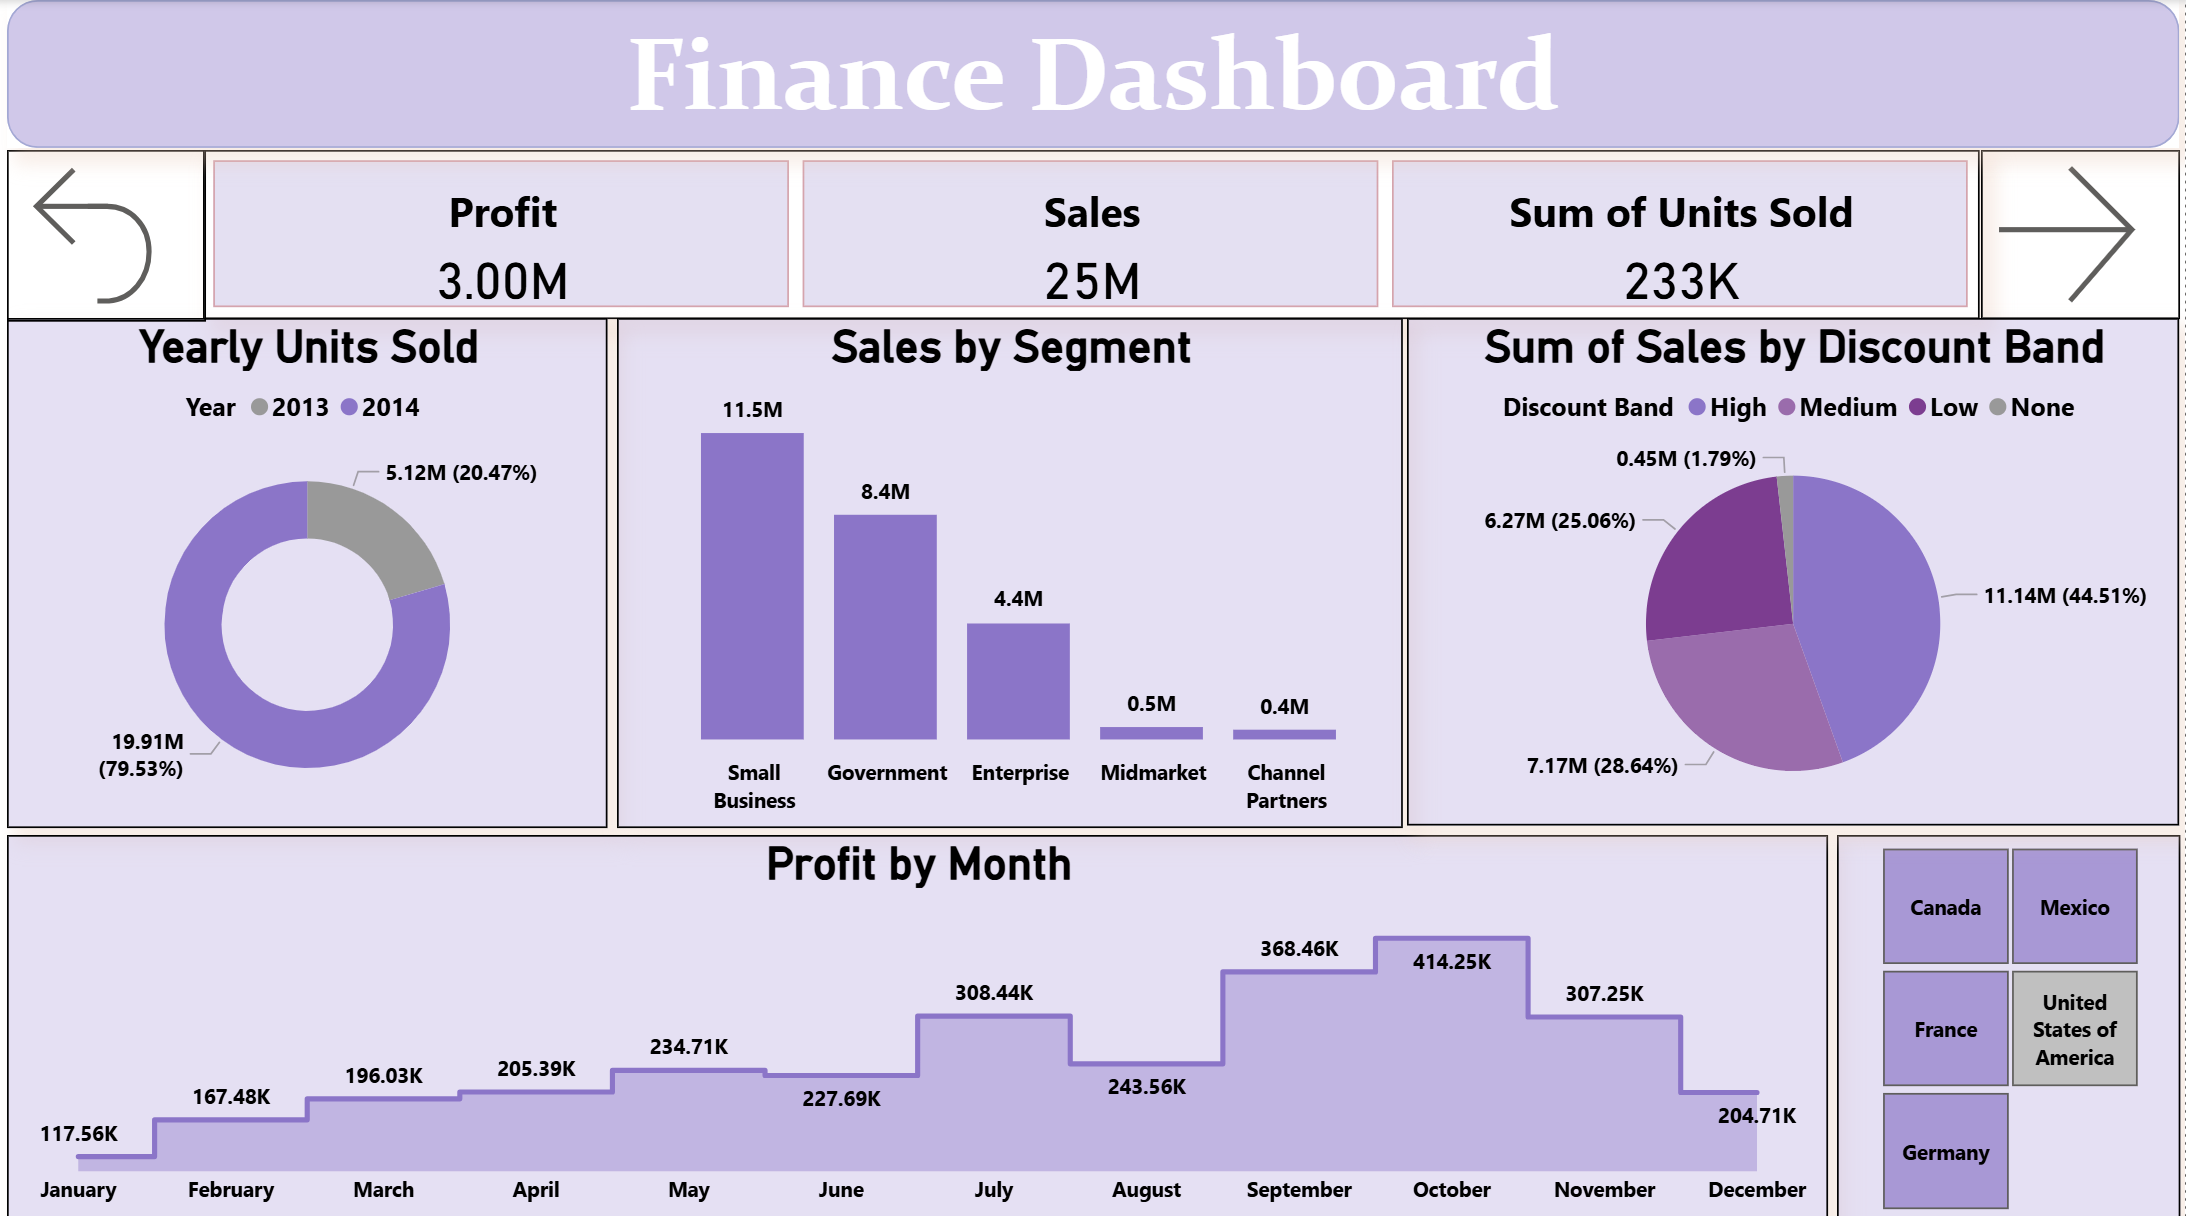

The page's visual inventory and layout, read from the dashboard file:
{"tool":"powerbi","page":{"name":"Dashboard","canvas":[1280,720],"ordinal":10},"visuals":[{"type":"cardVisual","fields":{"Data":["Sum(financials.Profit)","Sum(financials. Sales)","Sum(financials.Units Sold)"]},"box":[119.9,87.5,1040.2,98.8],"z":0},{"type":"donutChart","title":"Yearly Units Sold","fields":{"Y":["Sum(financials. Sales)"],"Category":["financials.Date.Variation.Date Hierarchy.Year","financials.Date.Variation.Date Hierarchy.Quarter","financials.Date.Variation.Date Hierarchy.Month","financials.Date.Variation.Date Hierarchy.Day"]},"box":[4.9,186.3,351.6,298.1],"z":1000},{"type":"columnChart","title":"Sales by Segment","fields":{"Category":["financials.Segment"],"Y":["Sum(financials. Sales)"]},"box":[361.3,186.3,460.2,298.1],"z":2000},{"type":"areaChart","title":"Profit by Month","fields":{"Category":["financials.Date.Variation.Date Hierarchy.Month","financials.Date.Variation.Date Hierarchy.Day"],"Y":["Sum(financials.Profit)"]},"box":[4.9,487.7,1066.1,226.8],"z":3000},{"type":"slicer","fields":{"Values":["financials.Country"]},"box":[1075.8,487.7,200.9,226.8],"z":4000},{"type":"pieChart","fields":{"Y":["Sum(financials. Sales)"],"Category":["financials.Discount Band"]},"box":[824.7,186.3,452.1,296.5],"z":5000},{"type":"actionButton","box":[4.9,87.5,116.7,100.5],"z":6000},{"type":"actionButton","box":[1160.1,87.5,116.7,98.8],"z":7000},{"type":"shape","box":[5,0,1271.7,86.7],"z":8000}]}

Visuals, with their boxes in screenshot pixels (x1, y1, x2, y2), scaled from the page's 1280x720 canvas onto the 2186x1216 screenshot:
cardVisual - Sum(financials.Profit) x Sum(financials. Sales): BBox(205, 148, 1981, 315)
"Yearly Units Sold" donutChart: BBox(8, 315, 609, 818)
"Sales by Segment" columnChart: BBox(617, 315, 1403, 818)
"Profit by Month" areaChart: BBox(8, 824, 1829, 1207)
slicer - financials.Country: BBox(1837, 824, 2180, 1207)
pieChart - Sum(financials. Sales) x financials.Discount Band: BBox(1408, 315, 2181, 815)
actionButton: BBox(8, 148, 208, 318)
actionButton: BBox(1981, 148, 2181, 315)
shape: BBox(9, 0, 2180, 146)
